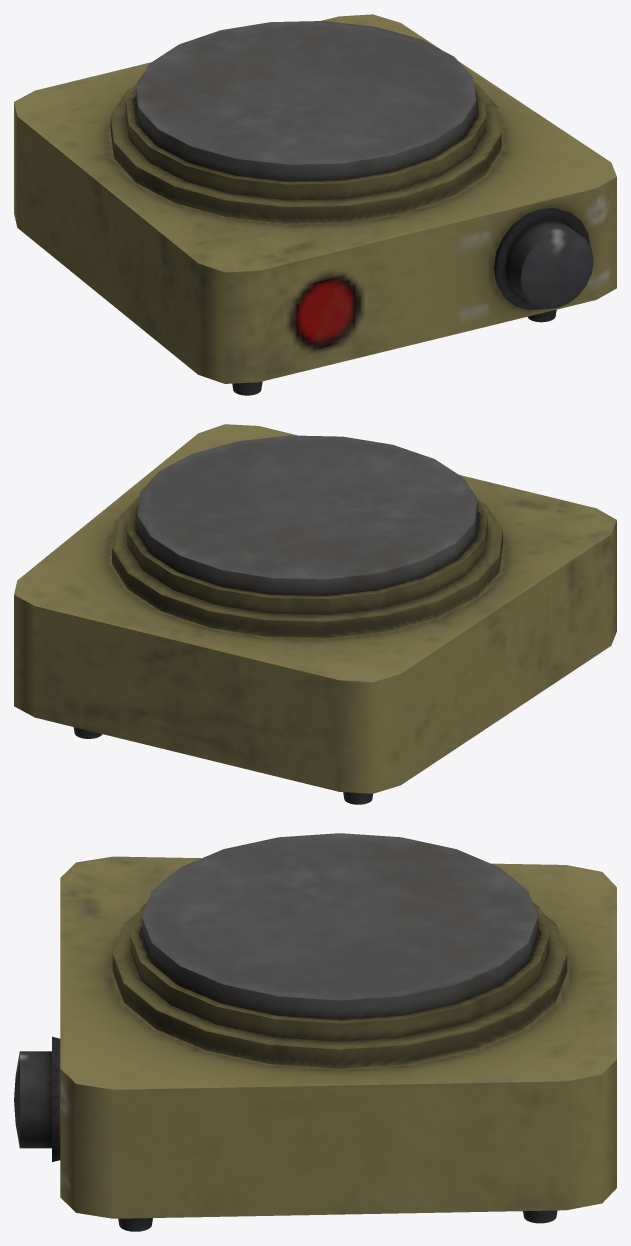
The model's file is Electrical_Stove_01.fbx.
The picture shows the model from 3 angles, top to bottom: view 1: azimuth 30°, elevation 25°; view 2: azimuth 150°, elevation 25°; view 3: azimuth 270°, elevation 25°; orthographic projection. The views are drawn at different scales.
Parts seen in each view (by area): view 1: Electrical_Stove; view 2: Electrical_Stove; view 3: Electrical_Stove.
Part boxes in pixels (bbox=[...]): Electrical_Stove: bbox=[14, 14, 616, 395]; Electrical_Stove: bbox=[14, 424, 616, 804]; Electrical_Stove: bbox=[14, 833, 616, 1231].
Bounding box in the file's own units: 25.32 × 11.39 × 27.66.
